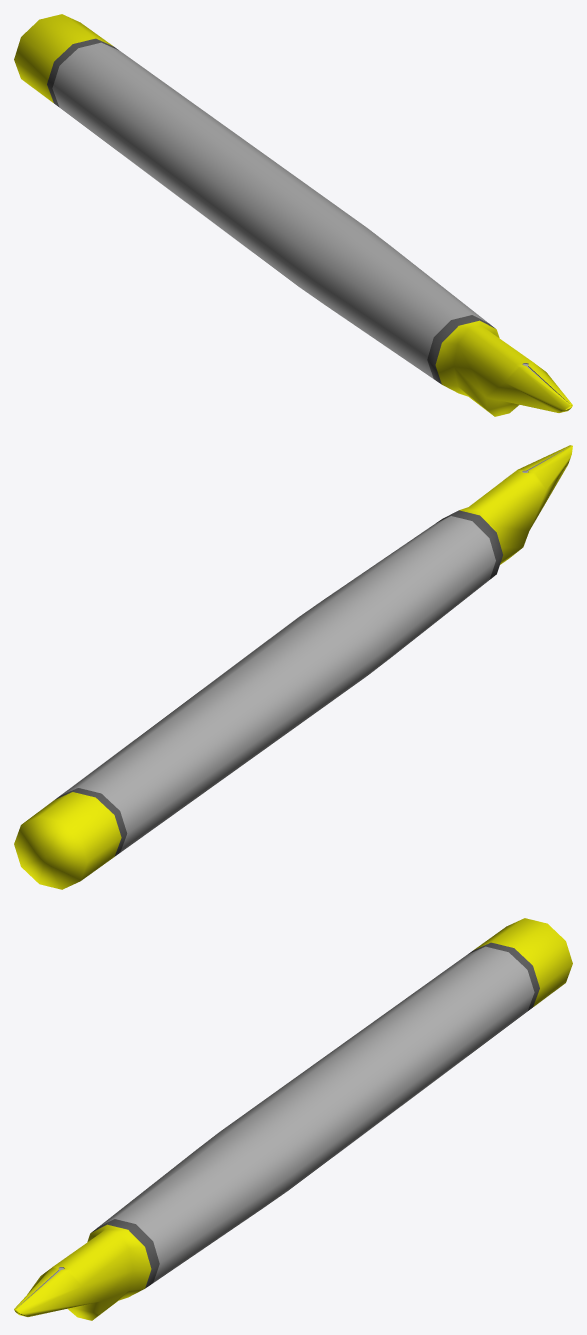
File: pen_01.fbx
3 views of the same model, one above another, from view 1: azimuth 30°, elevation 25°; view 2: azimuth 150°, elevation 25°; view 3: azimuth 330°, elevation 25° (orthographic).
Parts seen in each view (by area): view 1: pen; view 2: pen; view 3: pen.
Boxes of the visible parts, <box> form: pen: <box>14,14,572,416</box>; pen: <box>14,445,572,889</box>; pen: <box>14,918,572,1320</box>.
Bounding box in the file's own units: 3.33 × 2.54 × 35.65.
